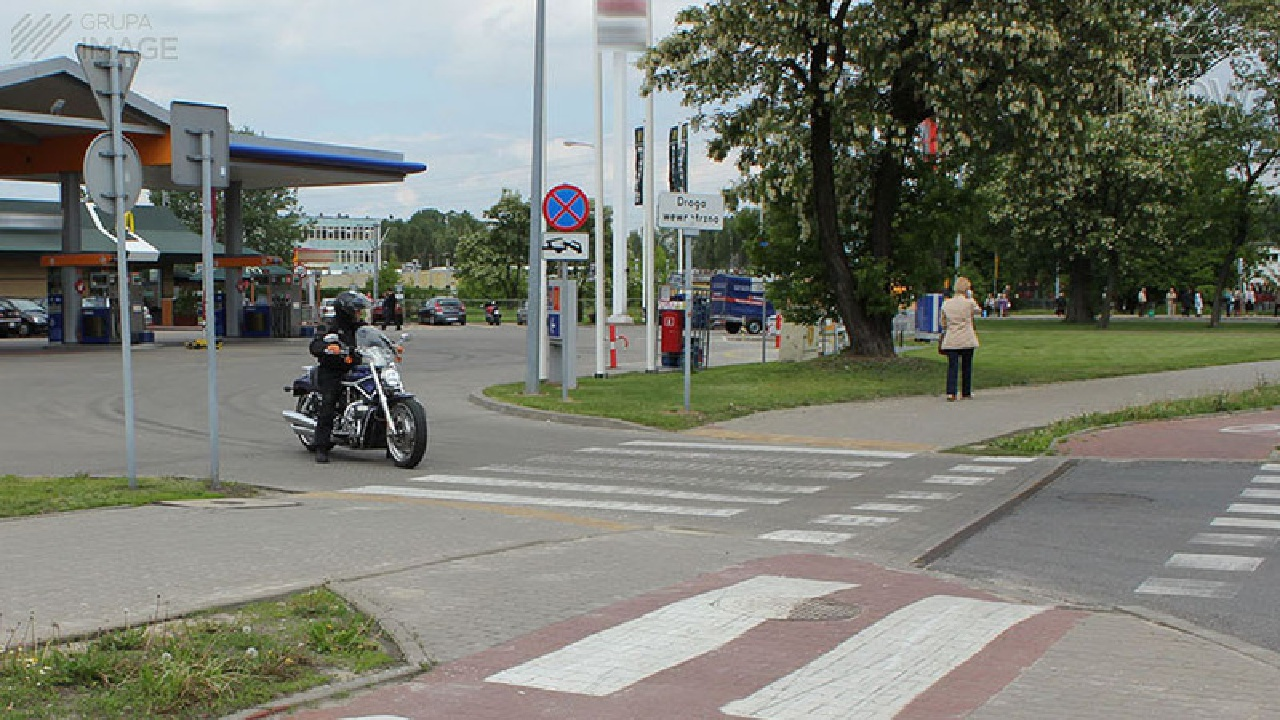B36: (543, 185, 590, 232)
